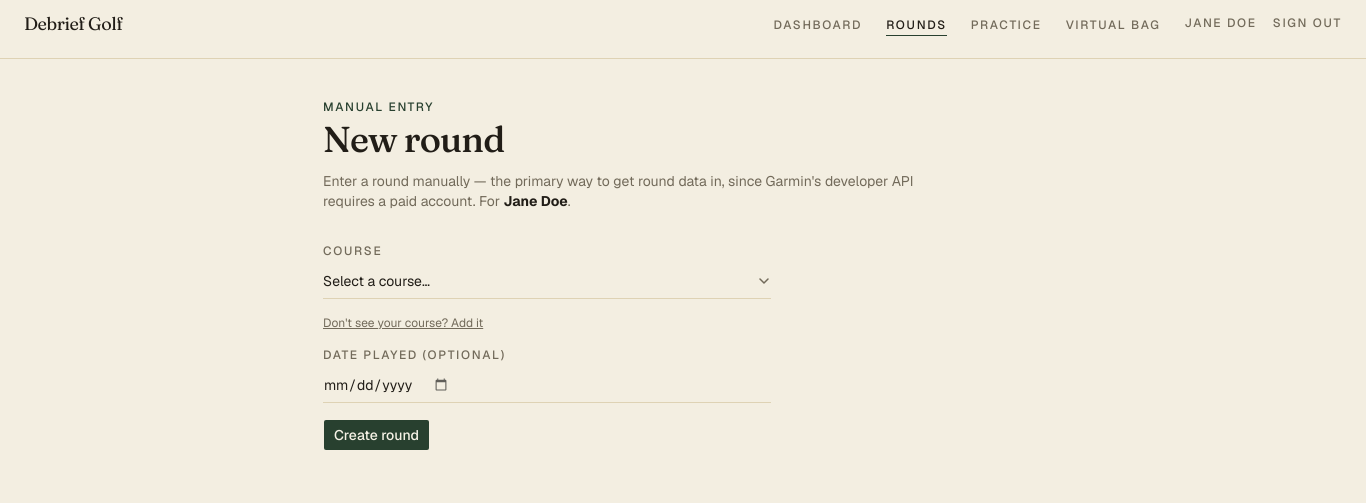
Test: NewRoundPage › shows an error when round creation fails
Select "Pinehurst Creek Golf Club — Pawleys Island" in the dropdown labelled "Course": (547, 281) top-left (323, 263), bottom-right (771, 299)
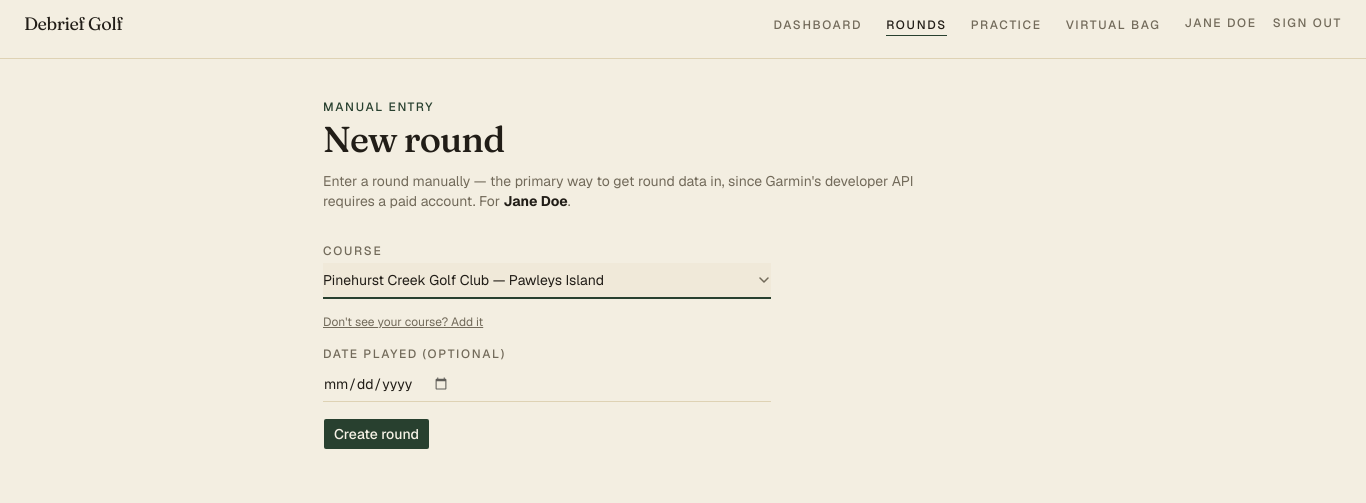
Click the button "Create round": click(376, 434) top-left (323, 418), bottom-right (430, 450)
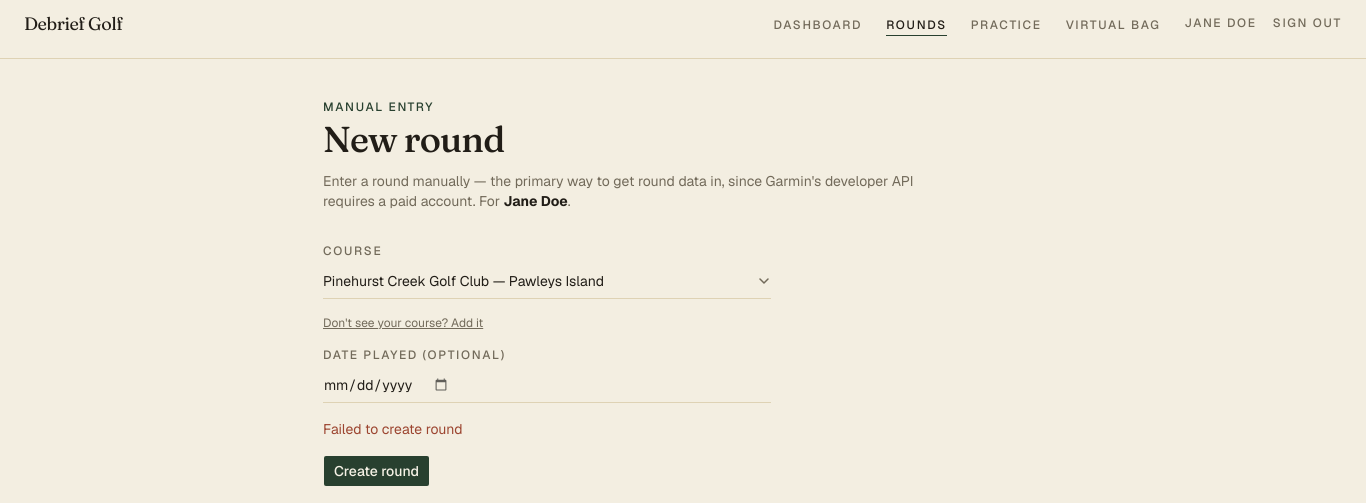
Check: the message "Failed to create round" is shown, box top-left (323, 420), bottom-right (463, 438)
